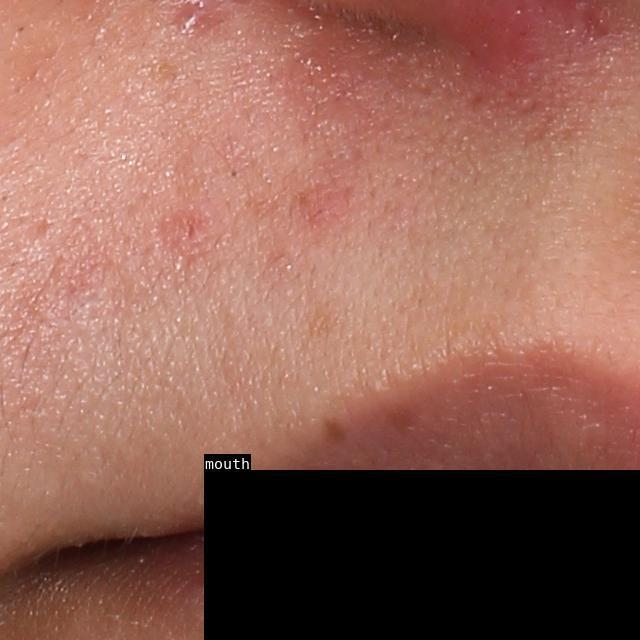nevus: (321, 413, 349, 442)
